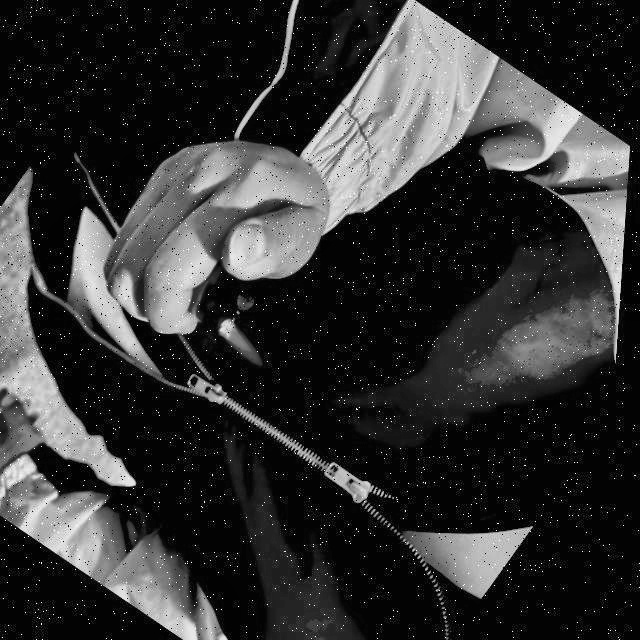Fire: (219, 319, 277, 368)
